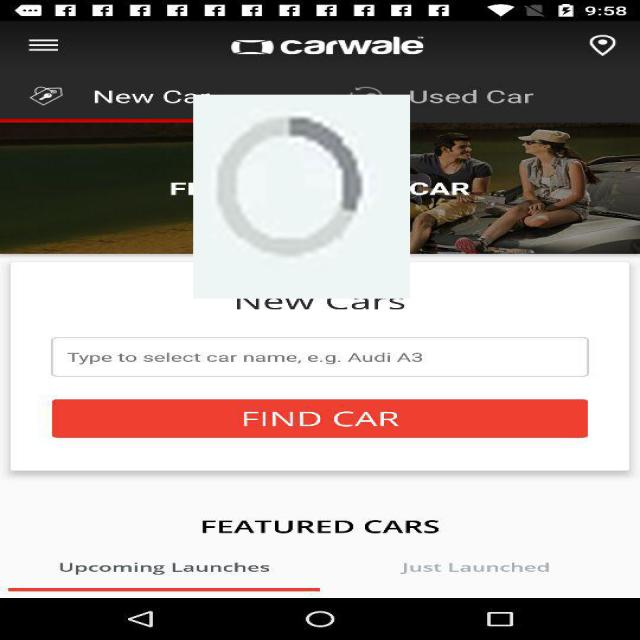misdirection: (193, 94, 410, 298)
